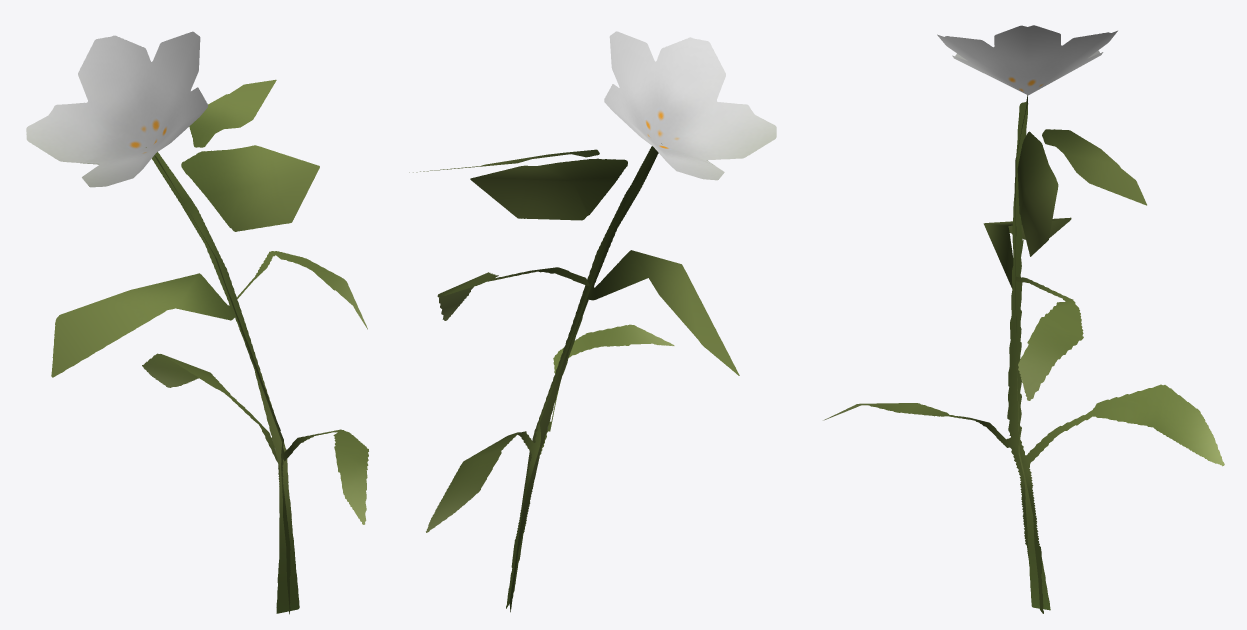
Rendered from FlowerWhite.FBX.
3 renders of one model, left to right at view 1: azimuth 30°, elevation 25°; view 2: azimuth 150°, elevation 25°; view 3: azimuth 270°, elevation 25°, orthographic. The views are drawn at different scales.
Visible parts, largest first — view 1: SM_FlowerRod005; view 2: SM_FlowerRod005; view 3: SM_FlowerRod005.
Boxes of the visible parts, x1,y1,x2,y2 form: SM_FlowerRod005: (26, 31, 368, 614); SM_FlowerRod005: (409, 31, 776, 612); SM_FlowerRod005: (823, 25, 1224, 613).
Size of the model in its own units: 7.94 by 13.84 by 9.3.
